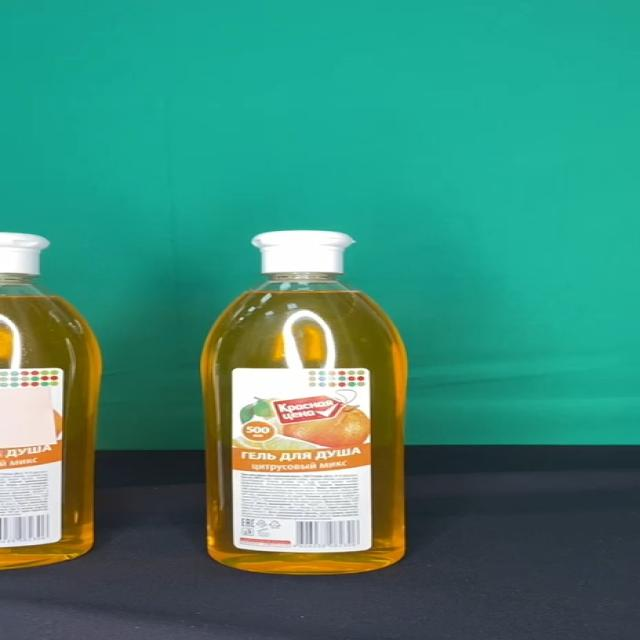Bottle: (199, 230, 410, 574)
Cap: (250, 231, 354, 274)
